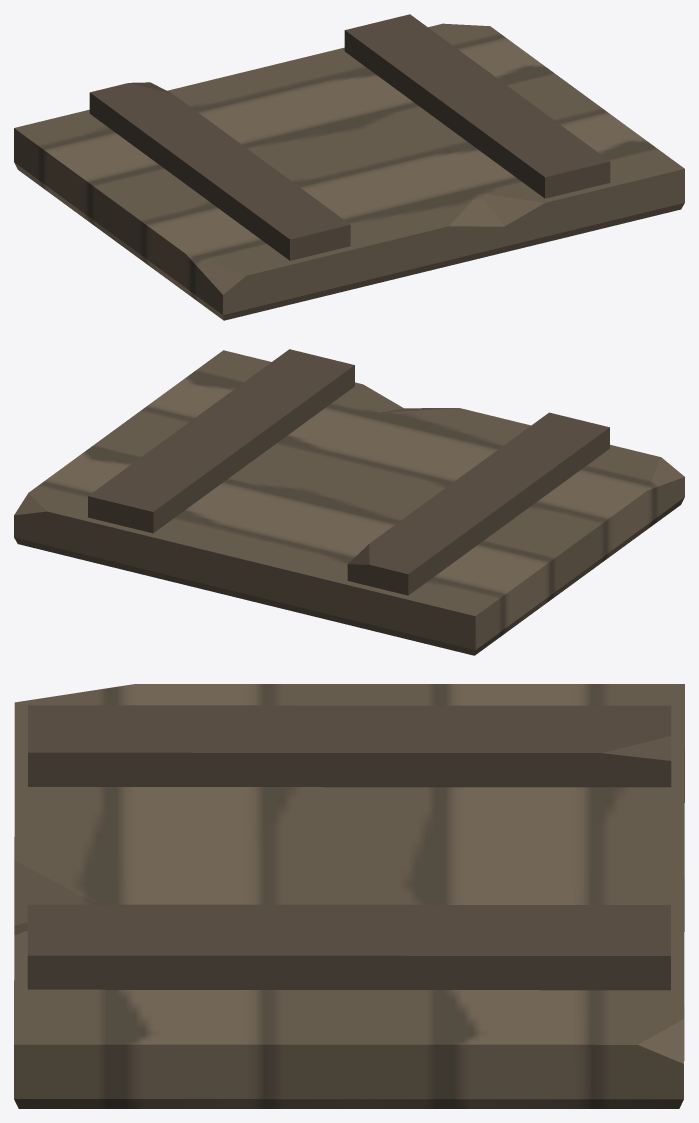
The model's file is SM_Prop_Crate_Wood_Lid_01.glb.
The picture shows the model from 3 angles, top to bottom: view 1: azimuth 30°, elevation 25°; view 2: azimuth 150°, elevation 25°; view 3: azimuth 270°, elevation 25°; orthographic projection. The views are drawn at different scales.
Parts seen in each view (by area): view 1: SM_Prop_Crate_Wood_Lid_01; view 2: SM_Prop_Crate_Wood_Lid_01; view 3: SM_Prop_Crate_Wood_Lid_01.
Part boxes in pixels (x1,y1,x2,y2): SM_Prop_Crate_Wood_Lid_01: (14,14,684,320); SM_Prop_Crate_Wood_Lid_01: (14,349,684,655); SM_Prop_Crate_Wood_Lid_01: (14,684,684,1108).
Size of the model in its own units: 0.9222 by 0.1194 by 0.7248.
1 material, 1 textured.
